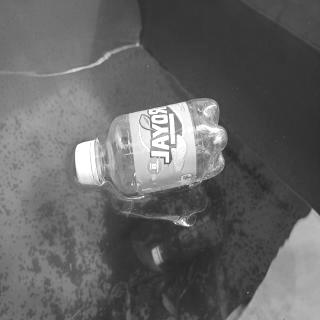bottle: (74, 94, 227, 199)
